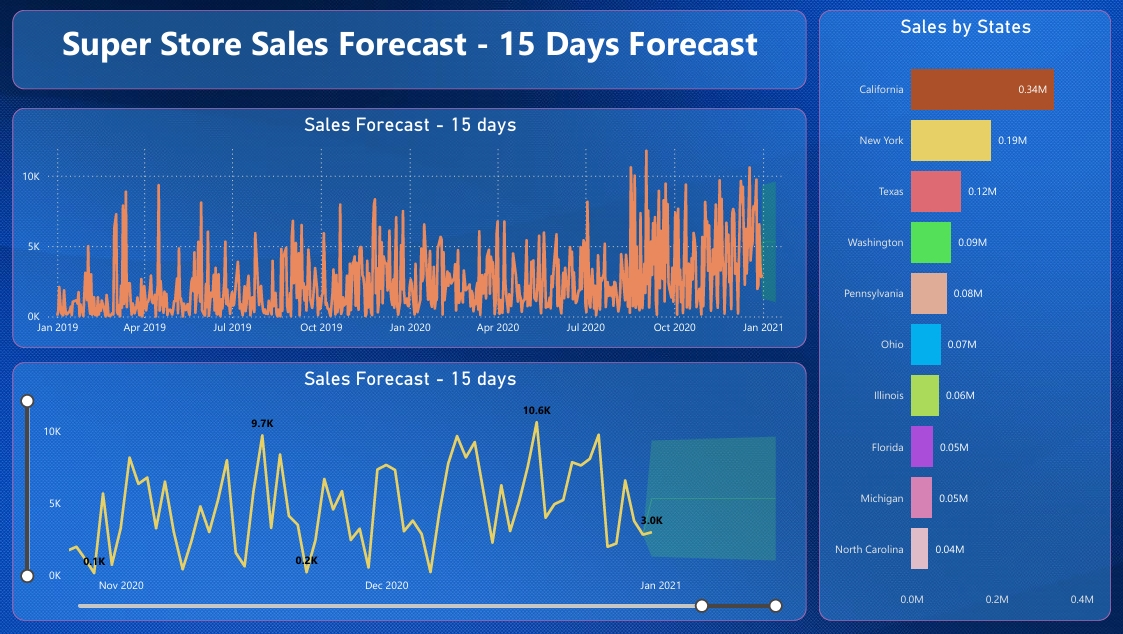

The page's visual inventory and layout, read from the dashboard file:
{"tool":"powerbi","page":{"name":"Sales Forecast","canvas":[1280,720],"ordinal":1},"visuals":[{"type":"lineChart","title":"Sales Forecast - 15 days","fields":{"Y":["Sum(SuperStore_Sales_Dataset.Sales)"],"Category":["SuperStore_Sales_Dataset.Order Date"]},"box":[16.3,122,899.5,271.6],"z":0},{"type":"lineChart","title":"Sales Forecast - 15 days","fields":{"Y":["Sum(SuperStore_Sales_Dataset.Sales)"],"Category":["SuperStore_Sales_Dataset.Order Date"]},"box":[16.3,409.9,899.5,292.8],"z":1000},{"type":"clusteredBarChart","title":"Sales by States","fields":{"Category":["SuperStore_Sales_Dataset.State"],"Y":["Sum(SuperStore_Sales_Dataset.Sales)"]},"box":[930.4,11.4,330.2,691.3],"z":2000},{"type":"textbox","box":[16.3,11.4,899.5,89.5],"z":3000}]}

Visuals, with their boxes in screenshot pixels (x1, y1, x2, y2), scaled from the page's 1280x720 canvas onto the 1123x634 screenshot:
"Sales Forecast - 15 days" lineChart: l=14, t=107, r=803, b=347
"Sales Forecast - 15 days" lineChart: l=14, t=361, r=803, b=619
"Sales by States" clusteredBarChart: l=816, t=10, r=1106, b=619
textbox: l=14, t=10, r=803, b=89
